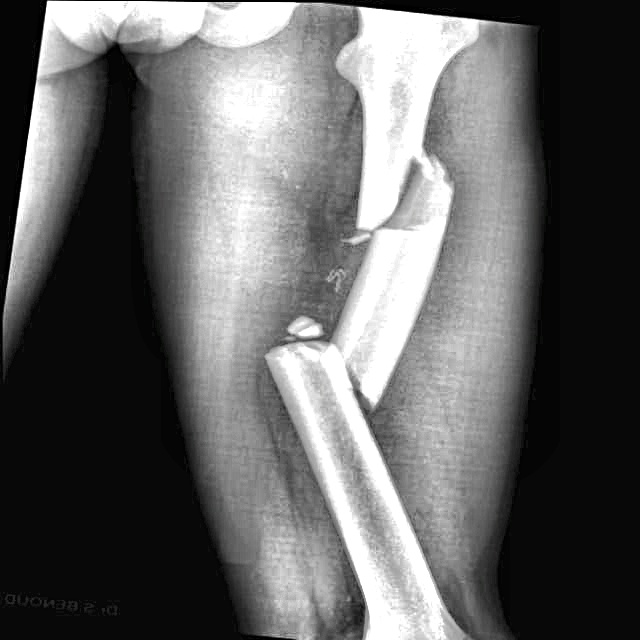Segmental: (243, 125, 521, 440)
